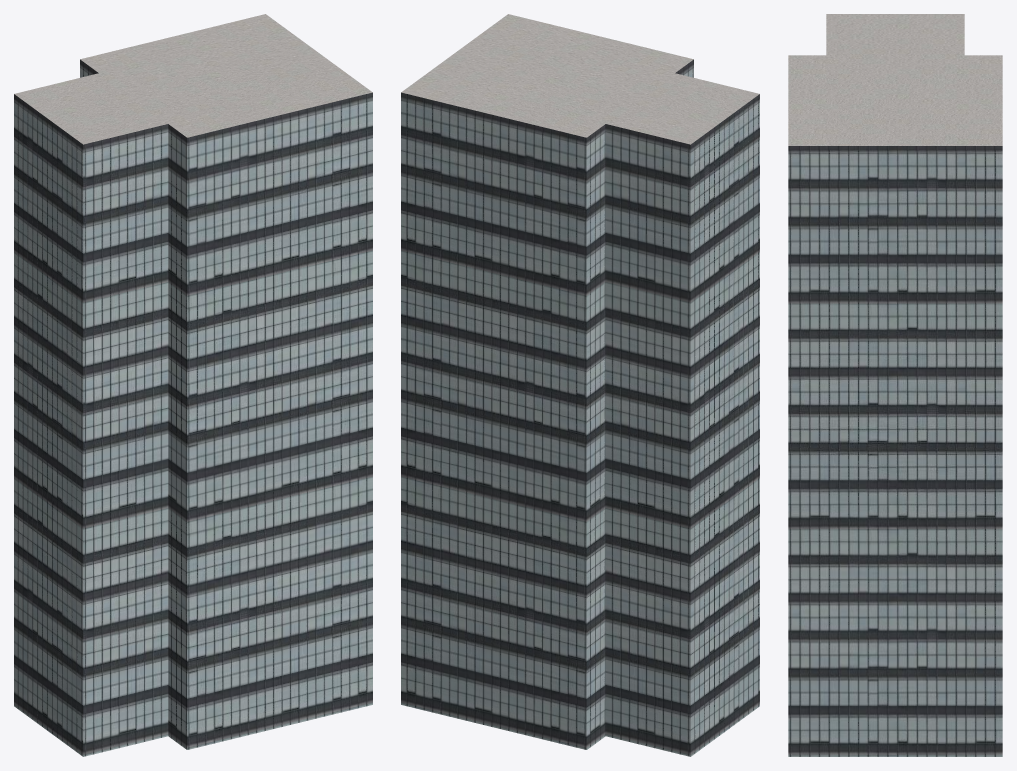
The picture shows the model from 3 angles, left to right: view 1: azimuth 30°, elevation 25°; view 2: azimuth 150°, elevation 25°; view 3: azimuth 270°, elevation 25°; orthographic projection.
Visible parts, largest first — view 1: building50, building50_cell.002, building50_cell.001, building50_cell; view 2: building50, building50_cell, building50_cell.002, building50_cell.001; view 3: building50, building50_cell.002, building50_cell.001, building50_cell.
Boxes of the visible parts, x1,y1,x2,y2 form: building50: [14, 58, 372, 756]; building50_cell.002: [14, 400, 372, 753]; building50_cell.001: [14, 14, 372, 320]; building50_cell: [14, 218, 262, 439]; building50: [401, 60, 759, 756]; building50_cell: [401, 96, 759, 450]; building50_cell.002: [401, 400, 759, 756]; building50_cell.001: [401, 14, 759, 269]; building50: [788, 56, 1002, 756]; building50_cell.002: [788, 451, 1002, 756]; building50_cell.001: [788, 14, 1002, 241]; building50_cell: [788, 151, 1002, 450].
Size of the model in its own units: 2.19 by 4.73 by 1.5.
2 materials, 2 textured.
